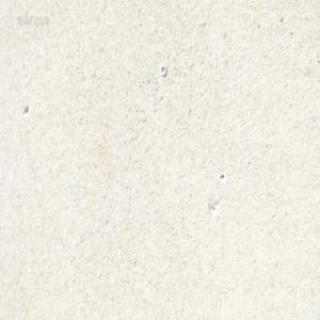Washertrack_idkeyframe: (159, 62, 166, 76)
